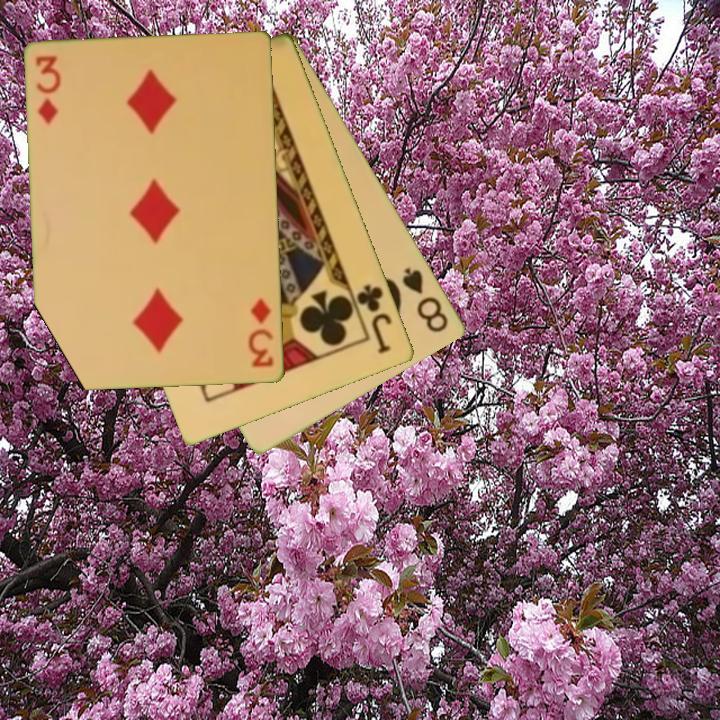3d: (245, 296, 277, 371), (32, 52, 63, 128)
8s: (399, 264, 452, 336)
Jc: (353, 280, 396, 357)
